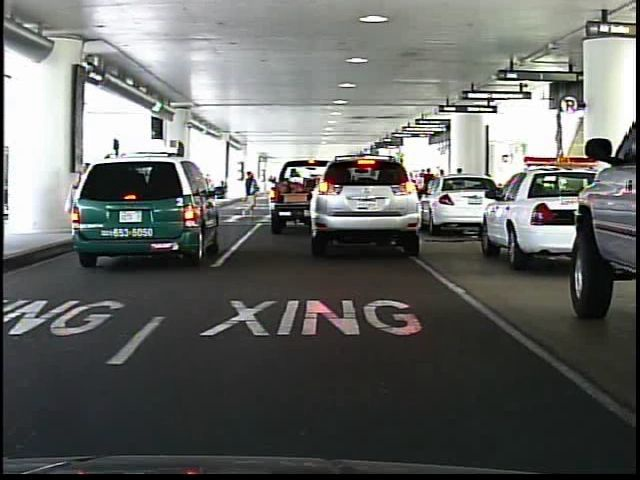person: (239, 168, 263, 224)
